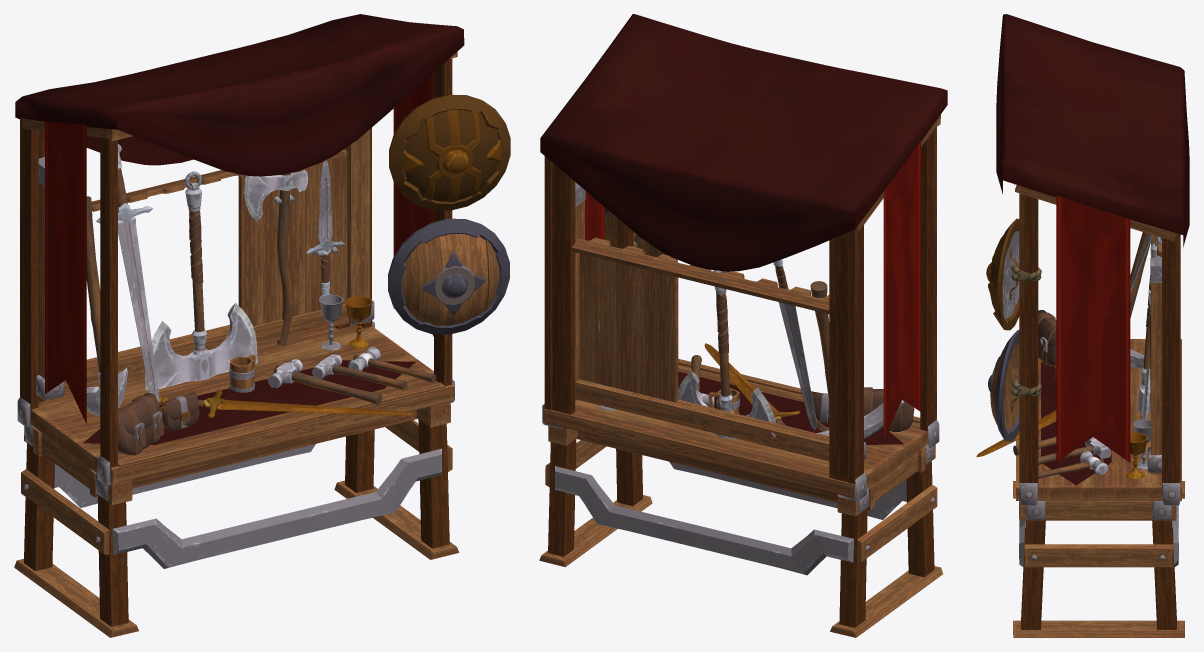
The model's file is Stall_Blacksmith.gltf.
3 views of the same model, side by side, from view 1: azimuth 30°, elevation 25°; view 2: azimuth 150°, elevation 25°; view 3: azimuth 270°, elevation 25° (orthographic). The views are drawn at different scales.
Parts seen in each view (by area): view 1: Stall_Blacksmith; view 2: Stall_Blacksmith; view 3: Stall_Blacksmith.
Boxes of the visible parts, x1,y1,x2,y2 form: Stall_Blacksmith: (14,14,510,637); Stall_Blacksmith: (539,14,947,637); Stall_Blacksmith: (976,14,1189,637).
Size of the model in its own units: 2.06 by 2.66 by 1.08.
Materials: 4 (4 with a texture image).
